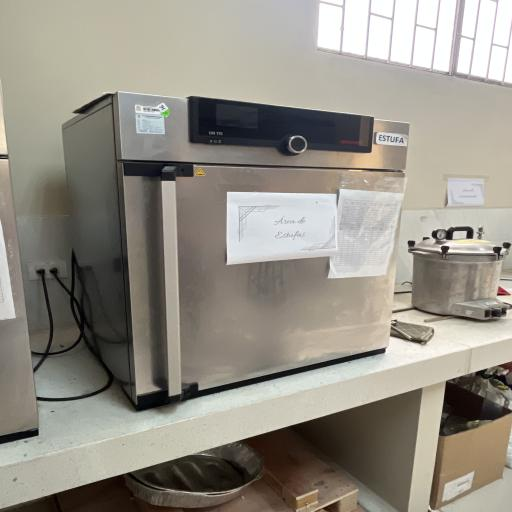Estufa_Memmert: (48, 85, 418, 417)
